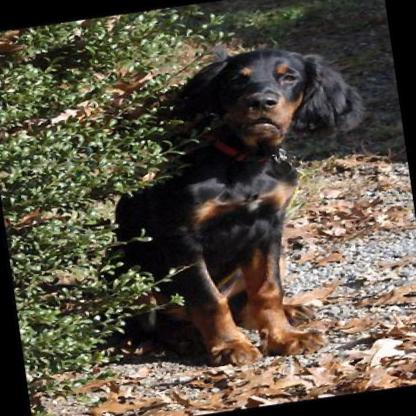Gordon_setter: (72, 35, 396, 381)
